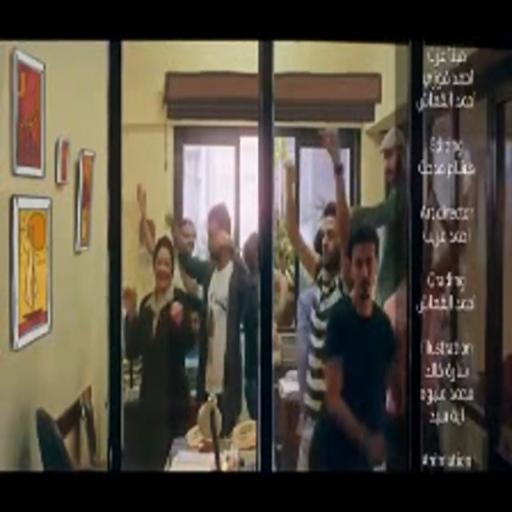nao-violencia: (122, 178, 261, 471)
